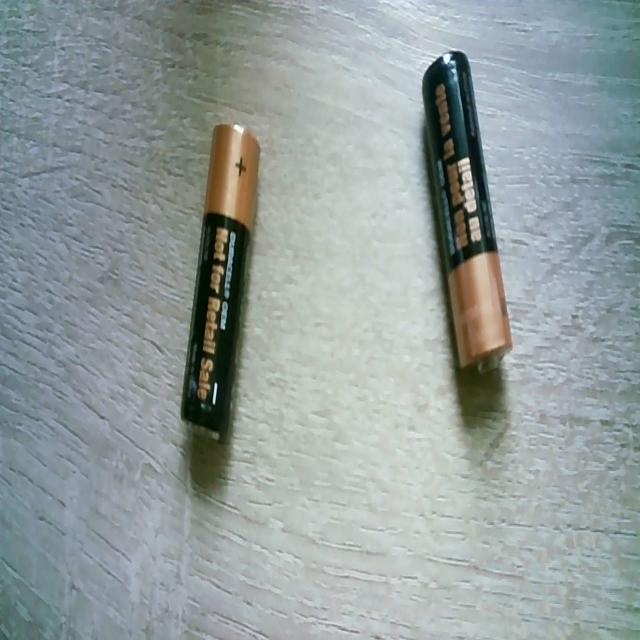AA: (421, 48, 513, 374), (180, 120, 260, 443)
